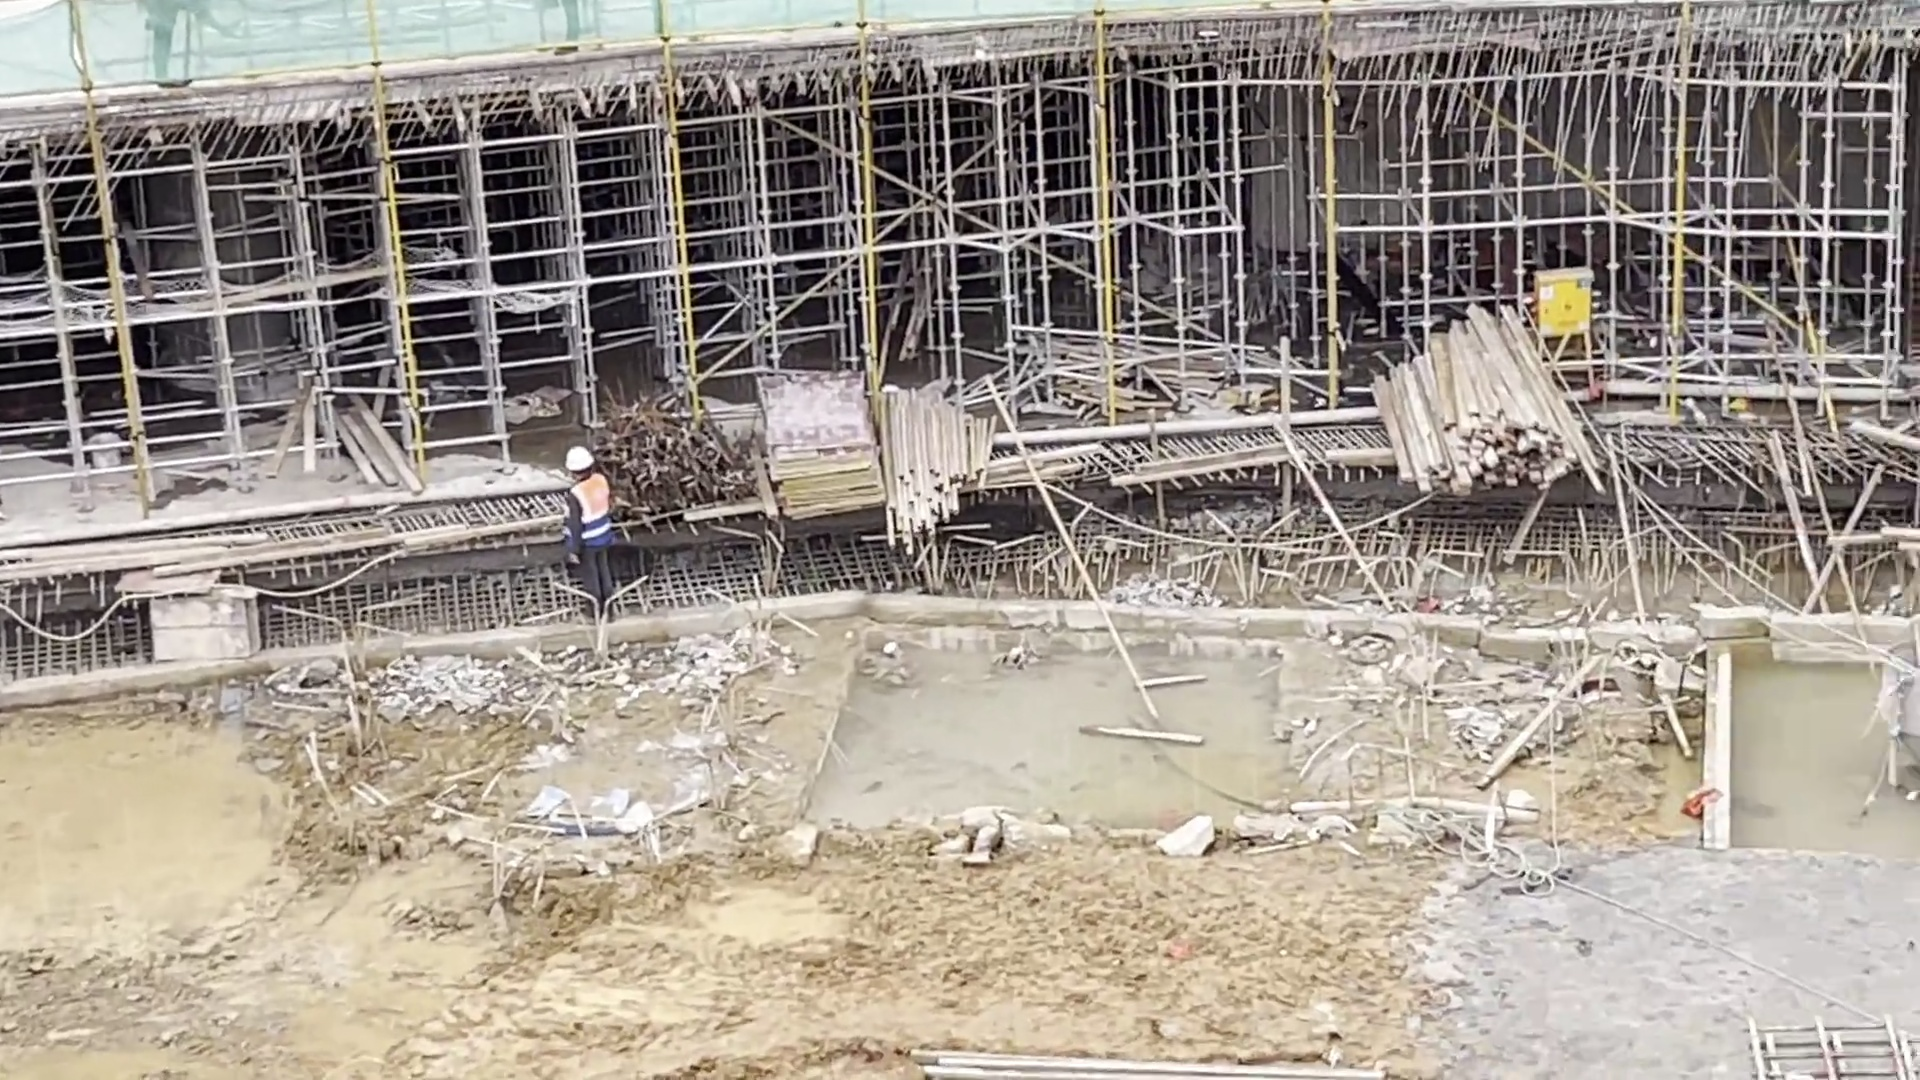board: (746, 363, 886, 522)
ebox: (1531, 265, 1601, 333)
helmet: (558, 440, 595, 472)
person: (559, 437, 631, 619)
scaffold: (885, 390, 999, 550)
vest: (562, 485, 623, 546)
wood: (1373, 314, 1599, 491)
